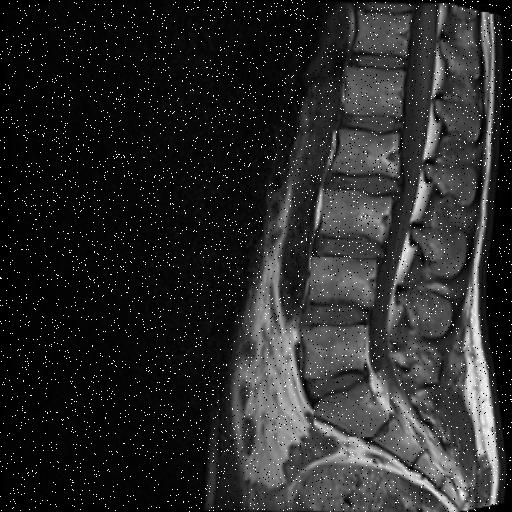L1: (344, 68, 402, 116)
L2: (333, 130, 397, 177)
L3: (322, 191, 391, 241)
L4: (310, 257, 376, 308)
L5: (300, 325, 364, 379)
S1: (313, 381, 388, 437)
